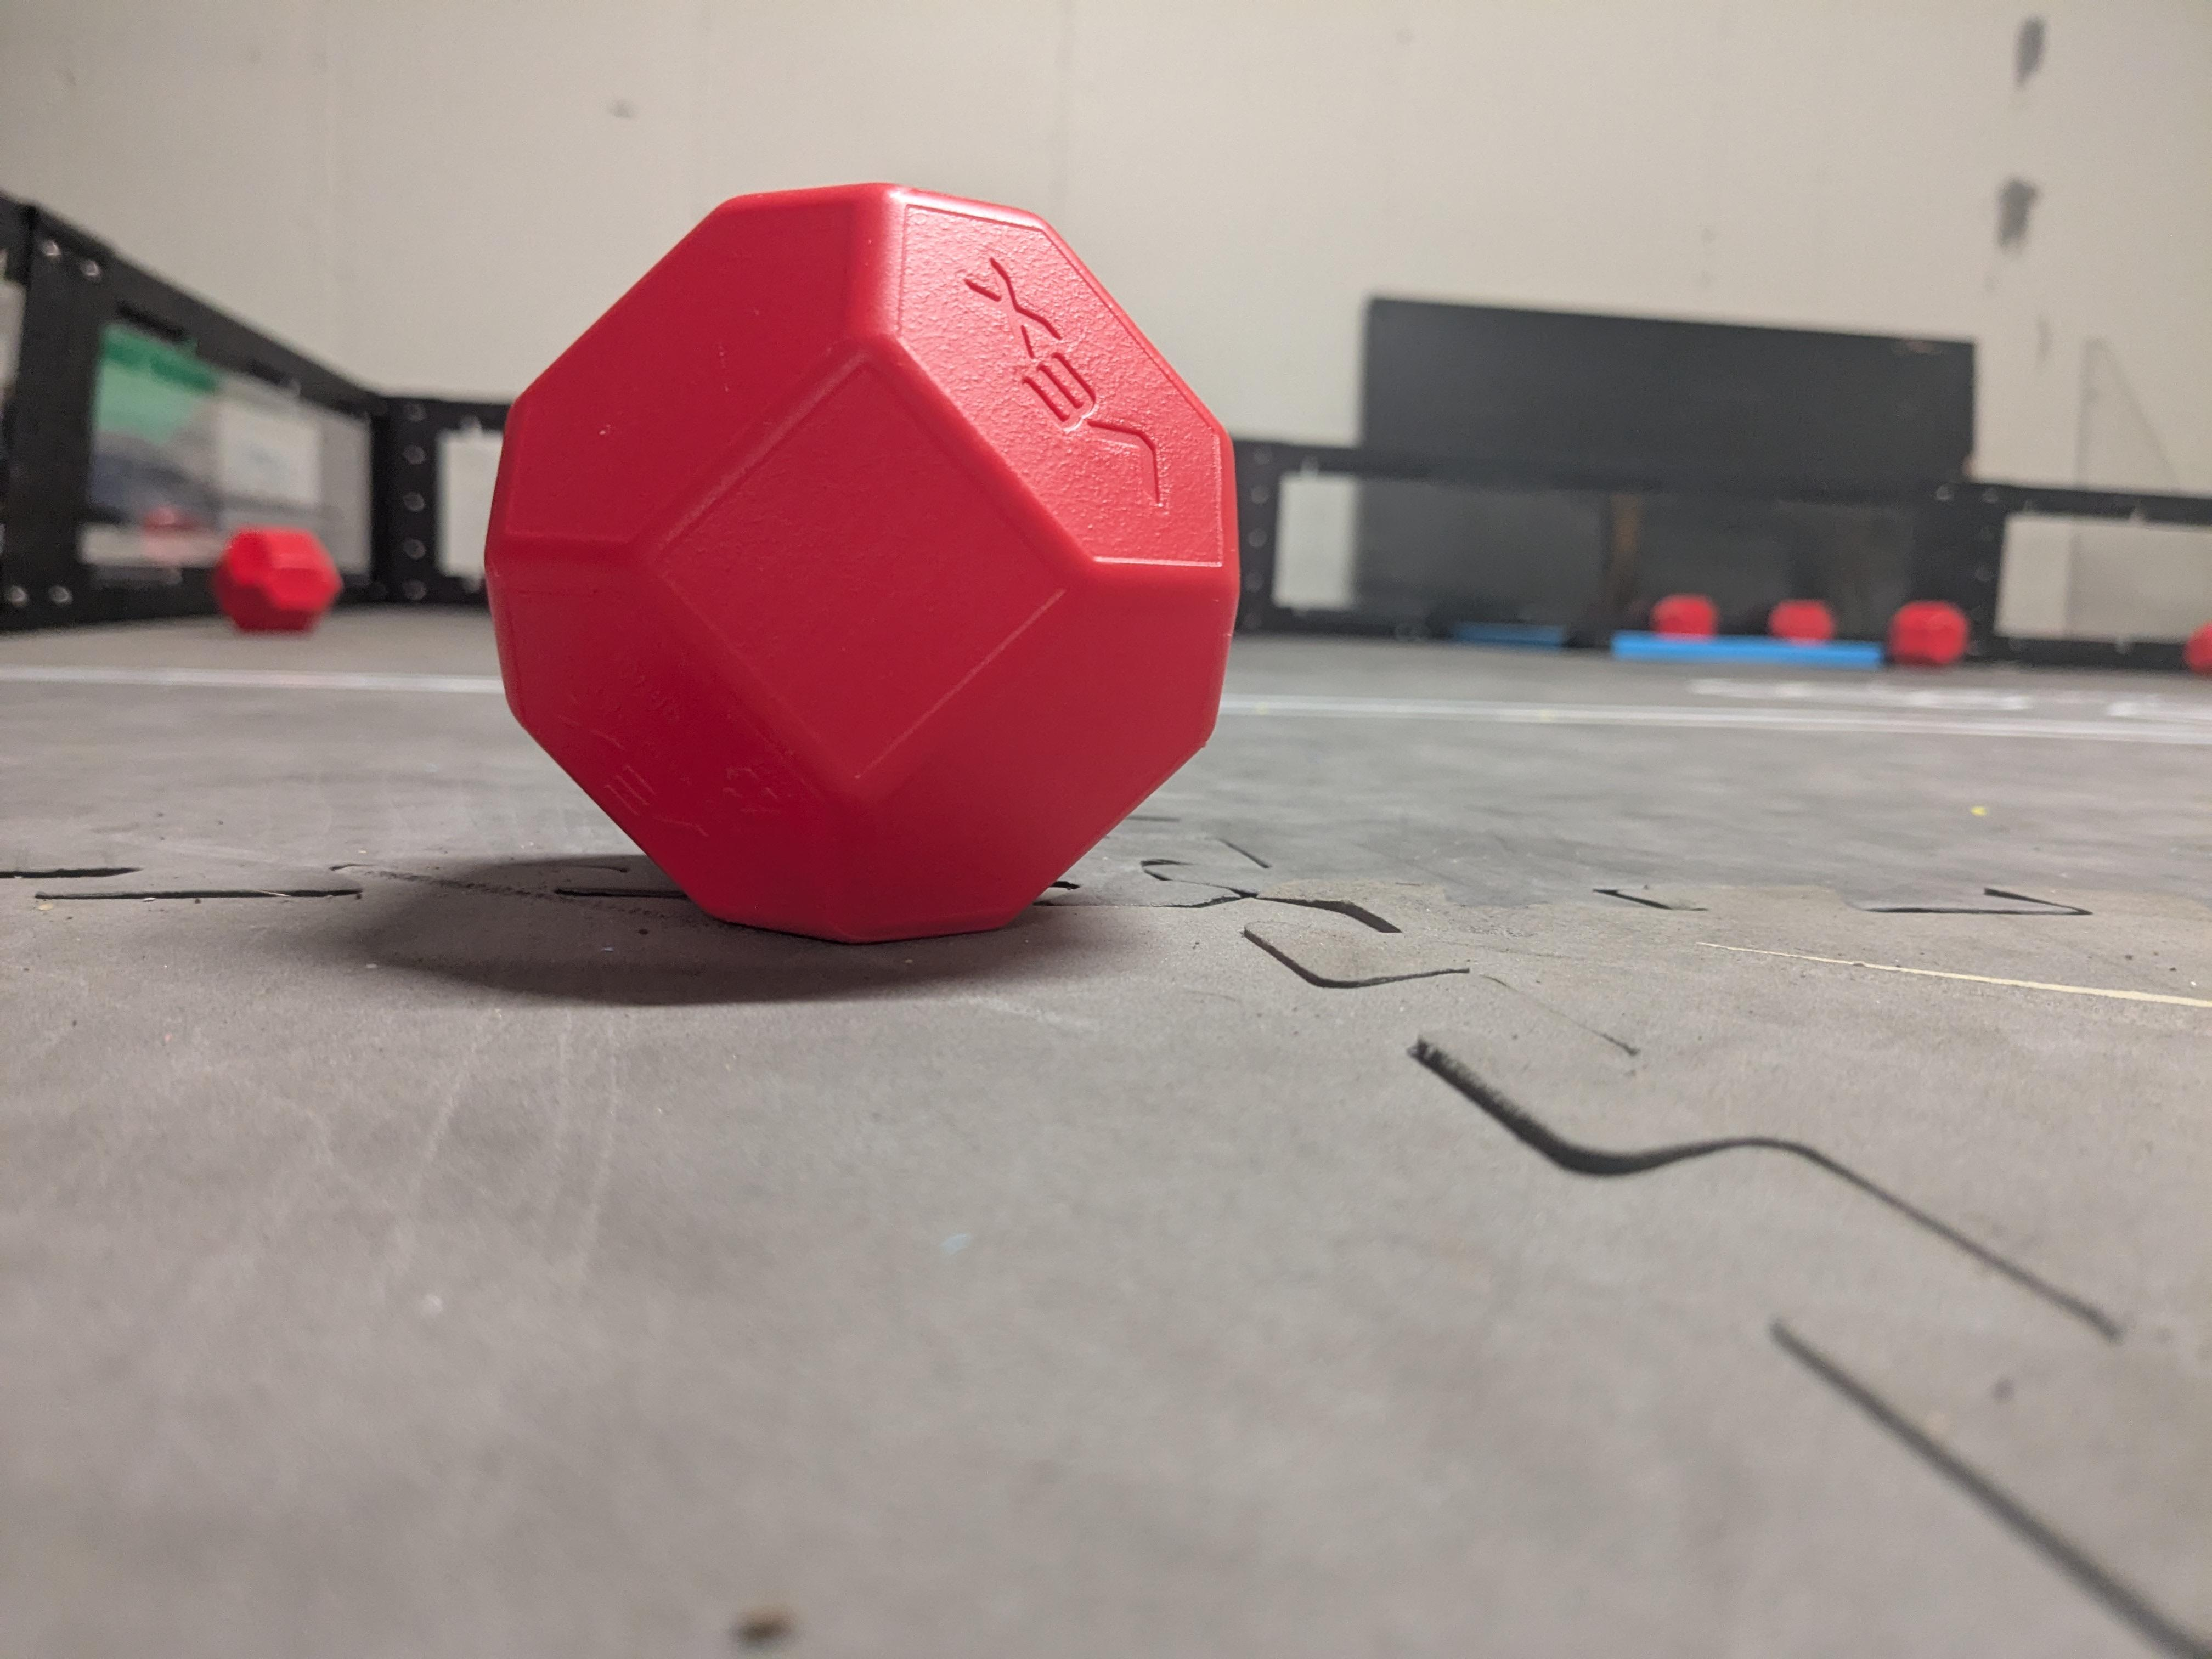Vex-Pieces-RED: (502, 186, 1244, 948)
